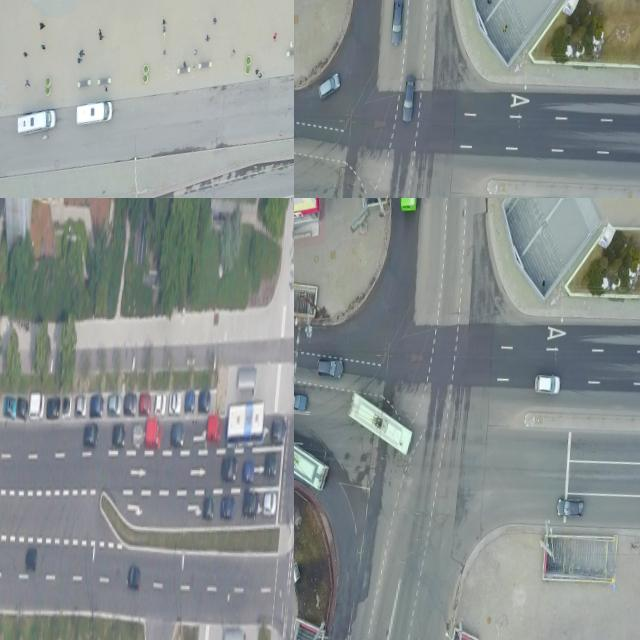UAI: (316, 70, 342, 103), (401, 74, 417, 123), (389, 0, 406, 46), (315, 357, 345, 380), (556, 496, 585, 519), (533, 373, 561, 396), (270, 412, 287, 445), (146, 418, 163, 451), (206, 414, 223, 445), (220, 454, 238, 482), (170, 419, 186, 449), (84, 420, 100, 450), (29, 390, 45, 420), (242, 490, 259, 518), (263, 450, 278, 478), (262, 491, 277, 516), (220, 494, 235, 519), (111, 422, 126, 447), (89, 393, 104, 418), (127, 566, 141, 591), (124, 391, 138, 416), (25, 547, 38, 573), (132, 422, 144, 450), (47, 395, 61, 419), (108, 393, 122, 417), (242, 459, 255, 484), (202, 495, 215, 520), (16, 396, 29, 421), (139, 391, 152, 416), (198, 389, 212, 412), (294, 390, 309, 411), (3, 395, 17, 417), (155, 391, 167, 416), (169, 391, 182, 414), (75, 394, 88, 416), (184, 389, 196, 412), (62, 394, 72, 417)
car: (345, 390, 417, 455), (294, 424, 331, 492), (225, 397, 266, 449)
harvester: (15, 105, 58, 140), (75, 96, 116, 130)
